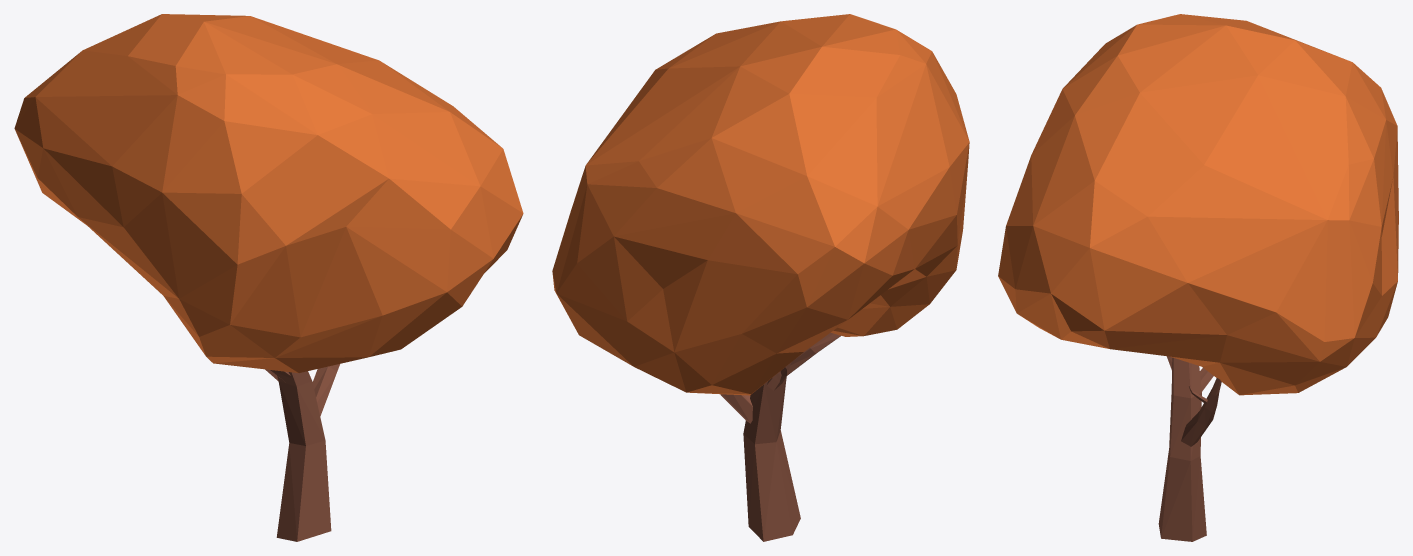
File: Tree_01.fbx
The picture shows the model from 3 angles, left to right: view 1: azimuth 30°, elevation 25°; view 2: azimuth 150°, elevation 25°; view 3: azimuth 270°, elevation 25°; orthographic projection. The views are drawn at different scales.
Parts seen in each view (by area): view 1: Tree_01; view 2: Tree_01; view 3: Tree_01.
Part boxes in pixels (bbox=[...]): Tree_01: bbox=[14, 14, 523, 541]; Tree_01: bbox=[552, 14, 969, 541]; Tree_01: bbox=[998, 14, 1398, 541].
Size of the model in its own units: 583 by 794 by 602.
